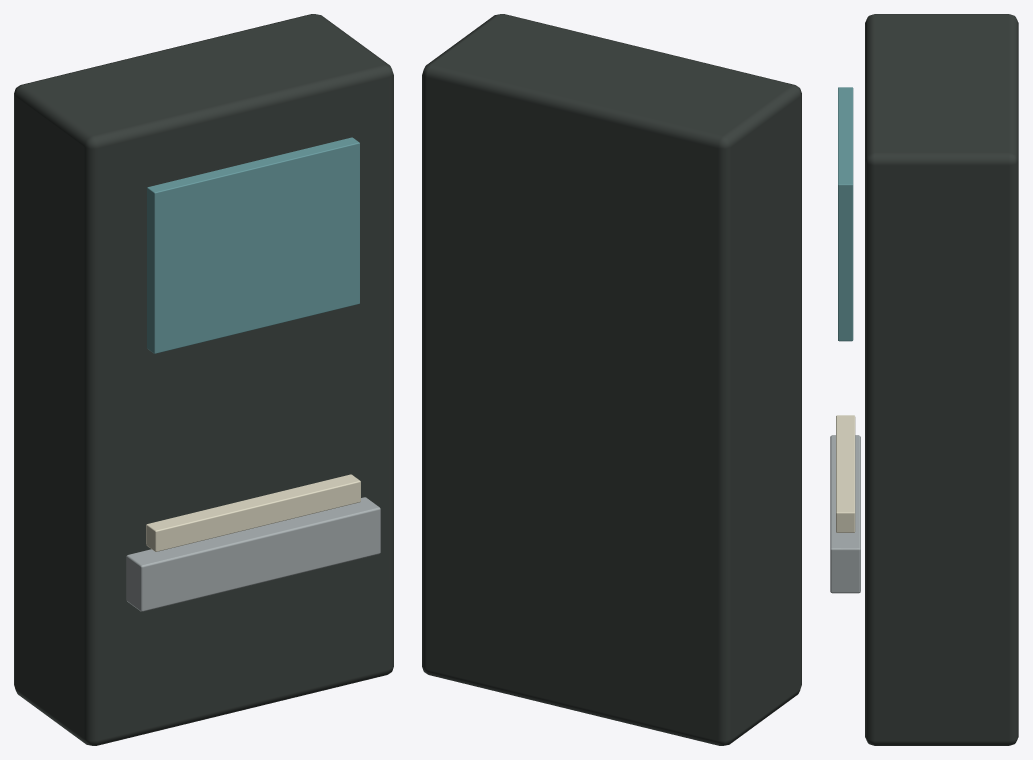
File: extraction-routes-and-objectives-keycard-reader-dab1c68d__22163.glb
3 views of the same model, side by side, from view 1: azimuth 30°, elevation 25°; view 2: azimuth 150°, elevation 25°; view 3: azimuth 270°, elevation 25° (orthographic). The views are drawn at different scales.
Parts seen in each view (by area): view 1: keycard-reader; view 2: keycard-reader; view 3: keycard-reader.
Boxes of the visible parts, box(x1,y1,x2,y2) form: keycard-reader: box(14, 14, 393, 745); keycard-reader: box(422, 14, 801, 745); keycard-reader: box(830, 14, 1018, 745).
Bounding box in the file's own units: 0.09 × 0.17 × 0.049.
